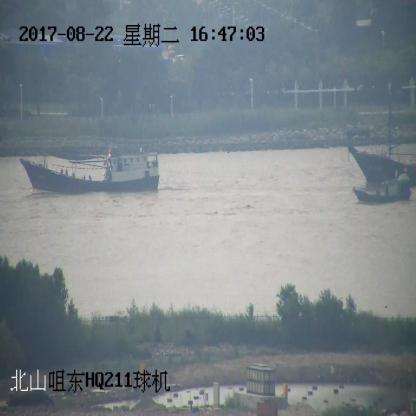Fishing Boat: (20, 144, 160, 194), (348, 88, 416, 186), (351, 167, 413, 205)
